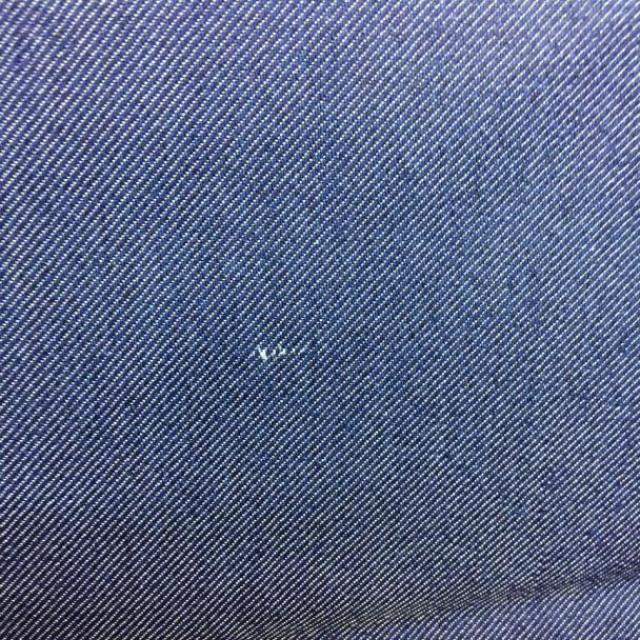Knot: (251, 342, 306, 364)
